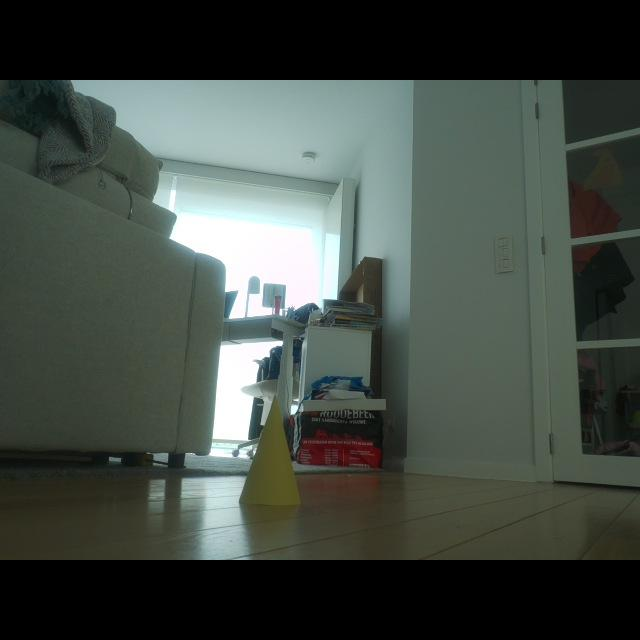bolya: (239, 401, 299, 504)
